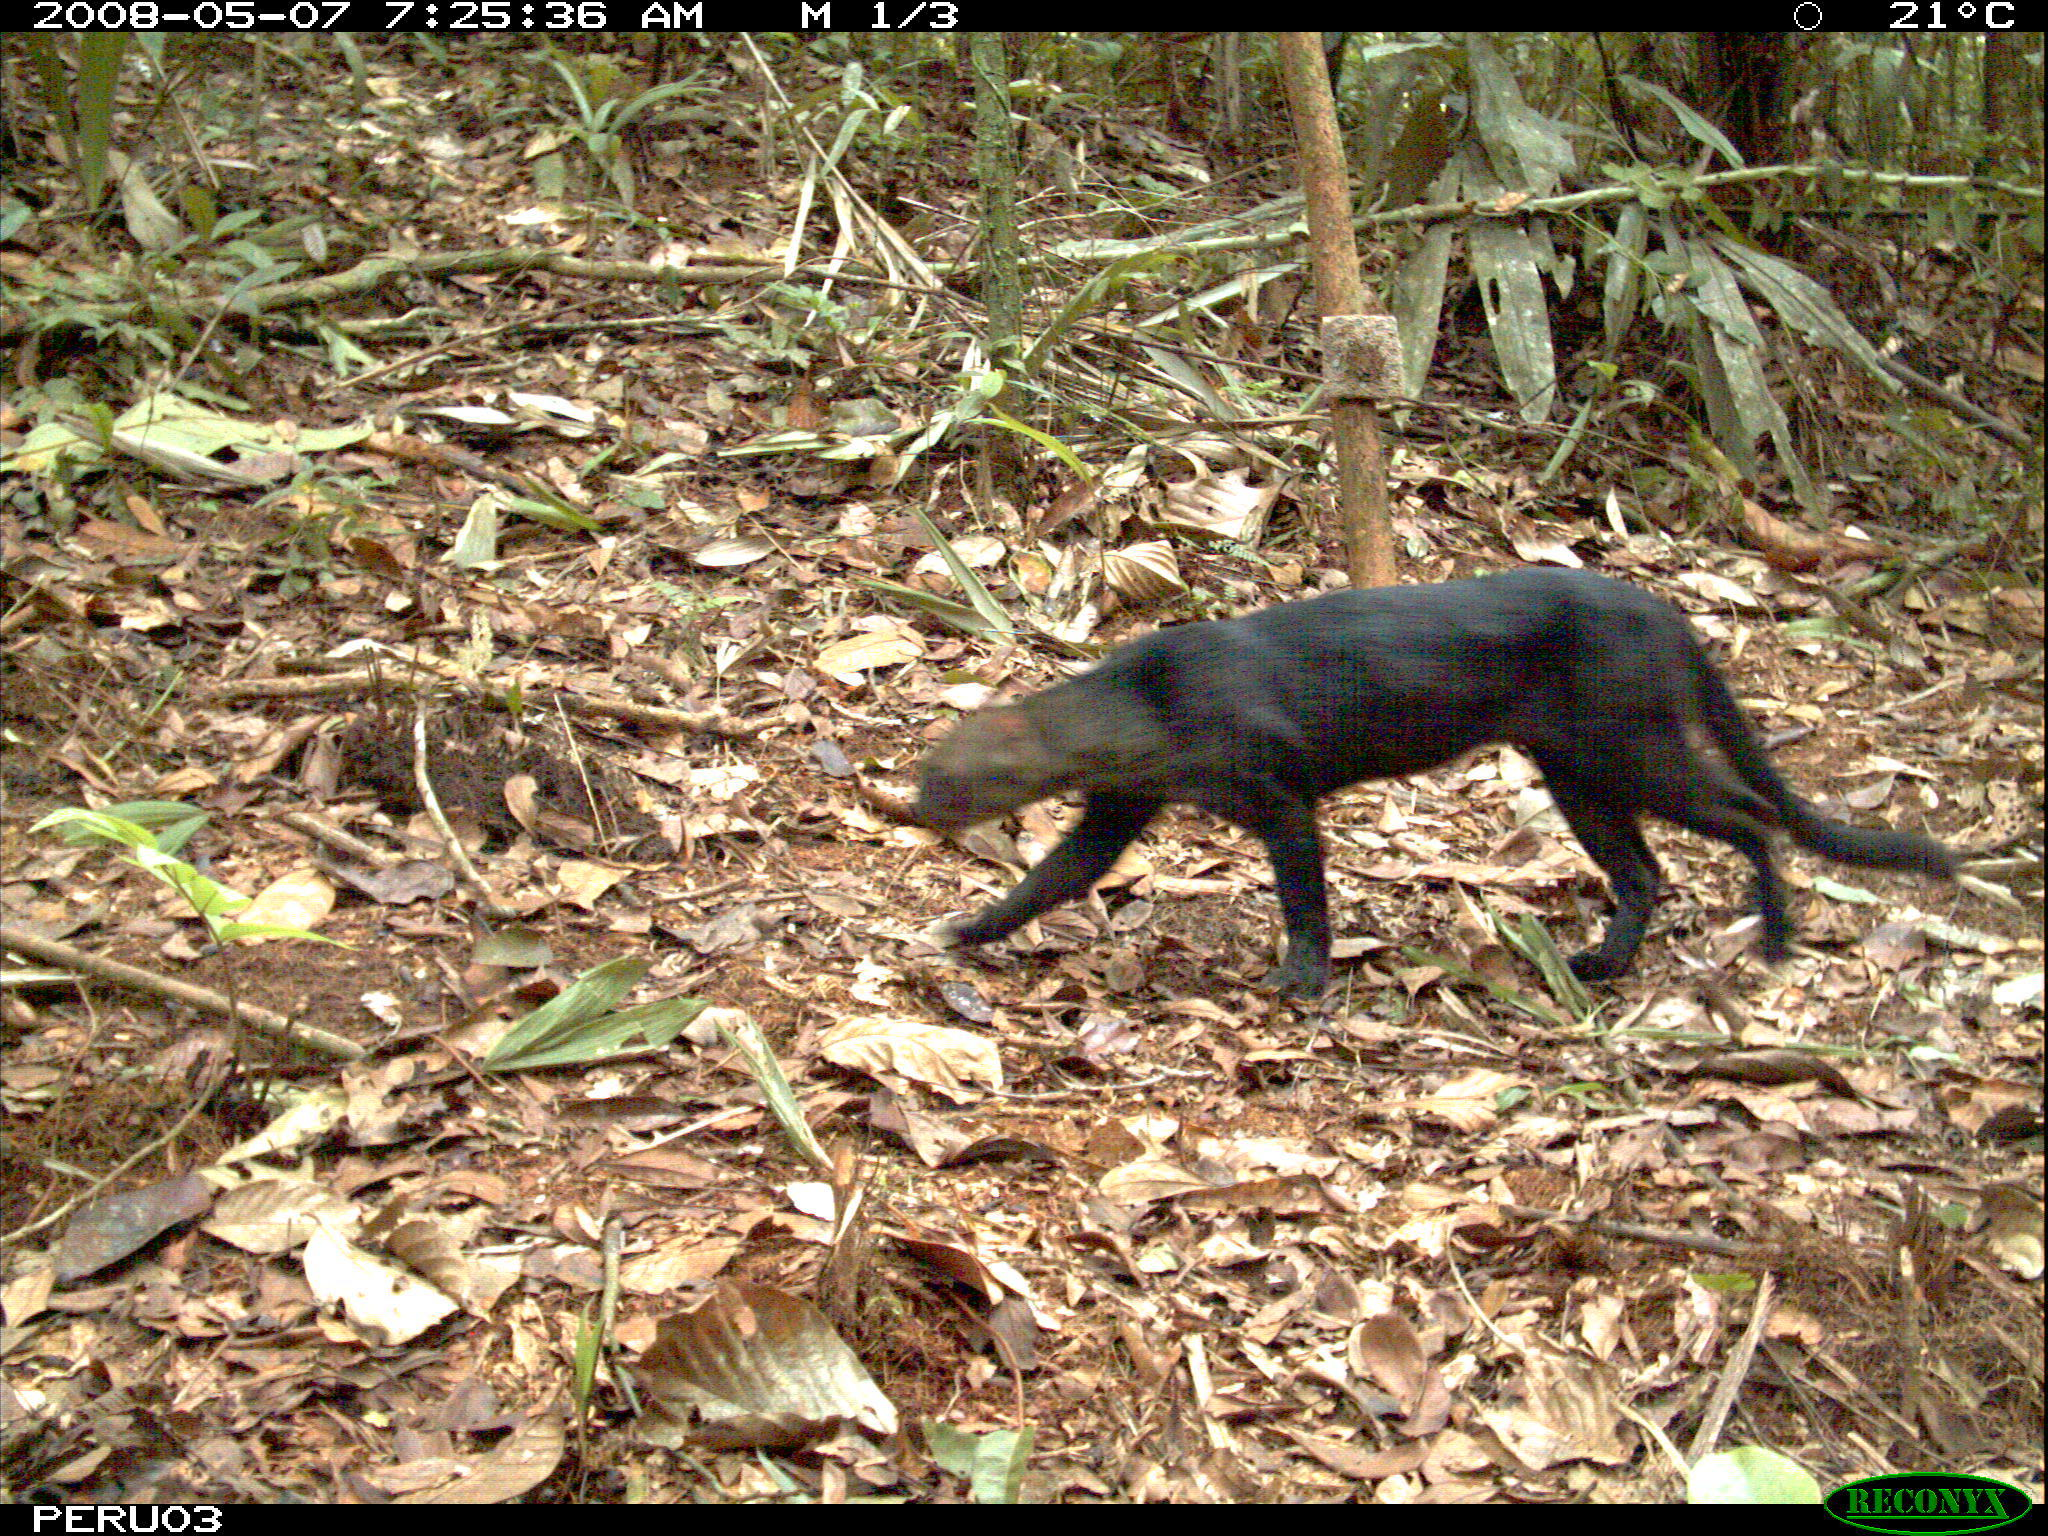Jaguarundi: (893, 565, 1971, 1012)
